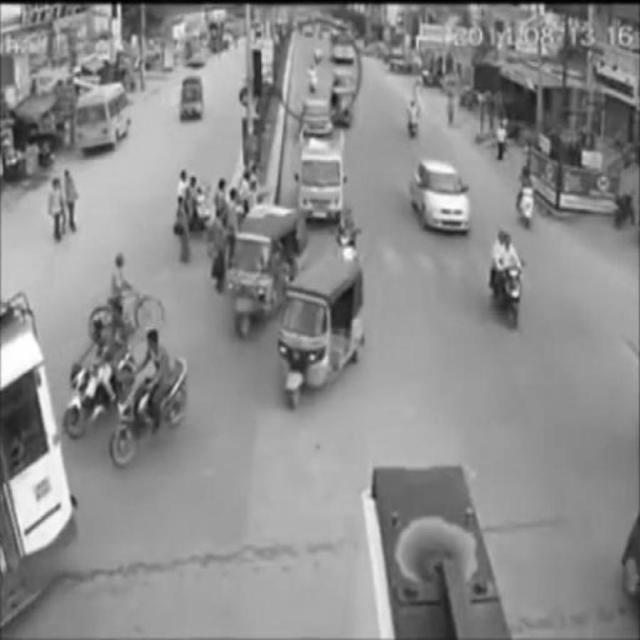person: (173, 195, 195, 269), (61, 166, 81, 234), (43, 180, 65, 241), (407, 99, 422, 144)
vehicle: (277, 249, 369, 403), (230, 206, 312, 346), (111, 327, 189, 471), (69, 322, 125, 446), (91, 254, 164, 334), (411, 163, 475, 237), (297, 141, 347, 225), (493, 230, 523, 331), (77, 90, 129, 147), (514, 166, 534, 227), (180, 76, 204, 120)
